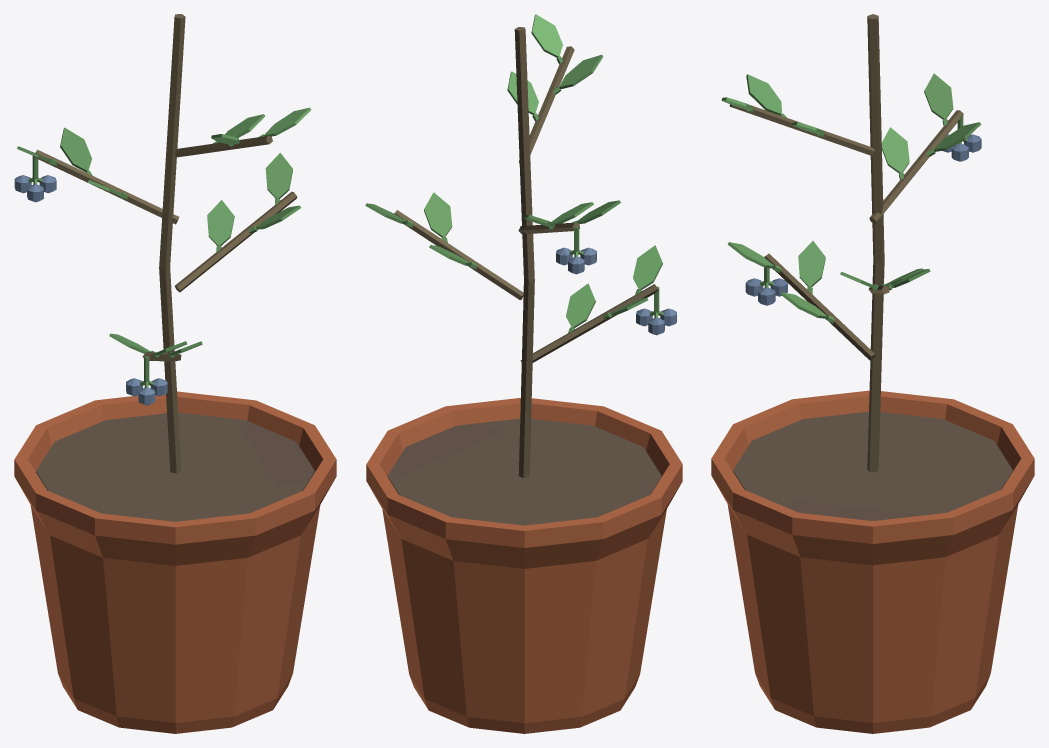
Rendered from blueberry.glb.
The picture shows the model from 3 angles, left to right: view 1: azimuth 30°, elevation 25°; view 2: azimuth 150°, elevation 25°; view 3: azimuth 270°, elevation 25°; orthographic projection. The views are drawn at different scales.
Visible parts, largest first — view 1: blueberry/review-terra-vessel, blueberry/review-rooted-soil, blueberry/stem-001, blueberry/petiole-016, blueberry/petiole-023, blueberry/leaf-018, blueberry/leaf-022, blueberry/leaf-027, blueberry/petiole-037, blueberry/leaf-043; view 2: blueberry/review-terra-vessel, blueberry/review-rooted-soil, blueberry/stem-001, blueberry/petiole-016, blueberry/petiole-002, blueberry/petiole-037, blueberry/leaf-020, blueberry/leaf-008, blueberry/leaf-004, blueberry/leaf-043, blueberry/leaf-041; view 3: blueberry/review-terra-vessel, blueberry/review-rooted-soil, blueberry/stem-001, blueberry/petiole-002, blueberry/petiole-023, blueberry/petiole-037, blueberry/leaf-006, blueberry/leaf-029, blueberry/leaf-025, blueberry/leaf-041, blueberry/leaf-027.
Boxes of the visible parts, x1=… form: blueberry/review-terra-vessel: x1=14, y1=391, x2=336, y2=733; blueberry/review-rooted-soil: x1=36, y1=412, x2=314, y2=521; blueberry/stem-001: x1=159, y1=14, x2=185, y2=473; blueberry/petiole-016: x1=175, y1=191, x2=297, y2=292; blueberry/petiole-023: x1=34, y1=149, x2=179, y2=224; blueberry/leaf-018: x1=207, y1=200, x2=234, y2=245; blueberry/leaf-022: x1=265, y1=153, x2=292, y2=198; blueberry/leaf-027: x1=60, y1=127, x2=91, y2=171; blueberry/petiole-037: x1=174, y1=136, x2=272, y2=157; blueberry/leaf-043: x1=264, y1=107, x2=311, y2=136; blueberry/review-terra-vessel: x1=366, y1=398, x2=682, y2=733; blueberry/review-rooted-soil: x1=387, y1=418, x2=661, y2=525; blueberry/stem-001: x1=514, y1=27, x2=534, y2=478; blueberry/petiole-016: x1=394, y1=210, x2=523, y2=299; blueberry/petiole-002: x1=520, y1=284, x2=658, y2=362; blueberry/petiole-037: x1=519, y1=46, x2=574, y2=163; blueberry/leaf-020: x1=424, y1=192, x2=452, y2=237; blueberry/leaf-008: x1=633, y1=245, x2=662, y2=289; blueberry/leaf-004: x1=566, y1=283, x2=595, y2=328; blueberry/leaf-043: x1=531, y1=14, x2=562, y2=57; blueberry/leaf-041: x1=559, y1=54, x2=603, y2=89; blueberry/review-terra-vessel: x1=711, y1=390, x2=1034, y2=733; blueberry/review-rooted-soil: x1=733, y1=411, x2=1012, y2=520; blueberry/stem-001: x1=867, y1=14, x2=884, y2=472; blueberry/petiole-002: x1=764, y1=253, x2=875, y2=360; blueberry/petiole-023: x1=869, y1=110, x2=963, y2=223; blueberry/petiole-037: x1=729, y1=104, x2=874, y2=155; blueberry/leaf-006: x1=798, y1=241, x2=825, y2=287; blueberry/leaf-029: x1=924, y1=73, x2=953, y2=119; blueberry/leaf-025: x1=881, y1=127, x2=909, y2=173; blueberry/leaf-041: x1=746, y1=74, x2=781, y2=115; blueberry/leaf-027: x1=933, y1=122, x2=981, y2=151.
Bounding box in the file's own units: 0.27 × 0.6193 × 0.27.
5 materials, 5 textured.
